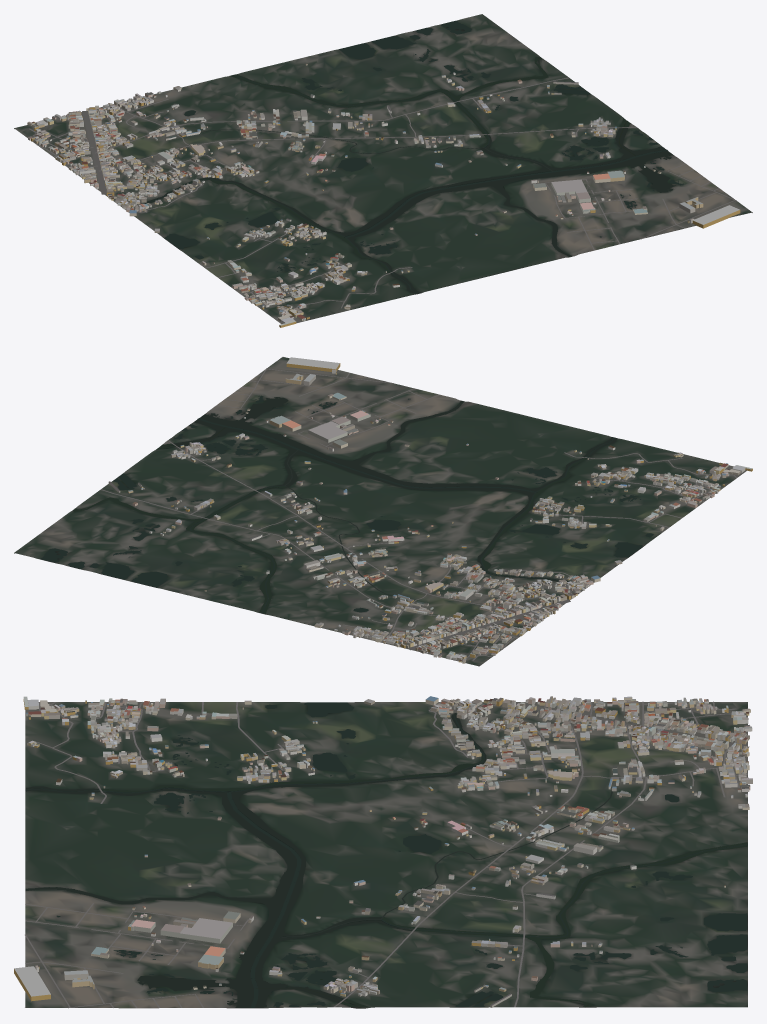
The picture shows the model from 3 angles, top to bottom: view 1: azimuth 30°, elevation 25°; view 2: azimuth 150°, elevation 25°; view 3: azimuth 270°, elevation 25°; orthographic projection. The views are drawn at different scales.
Parts seen in each view (by area): view 1: ground, buildings, water, roads; view 2: ground, buildings, water, roads; view 3: ground, buildings, water, roads.
Part boxes in pixels (x1,y1,x2,y2): ground: [14, 14, 752, 323]; buildings: [27, 63, 740, 327]; water: [141, 20, 683, 293]; roads: [27, 77, 752, 322]; ground: [14, 357, 746, 666]; buildings: [108, 357, 752, 663]; water: [40, 395, 653, 613]; roads: [100, 368, 742, 660]; ground: [25, 702, 747, 1008]; buildings: [14, 696, 752, 1007]; water: [25, 702, 747, 1008]; roads: [25, 701, 749, 1008].
Size of the model in its own units: 1415 by 18.47 by 1432.
